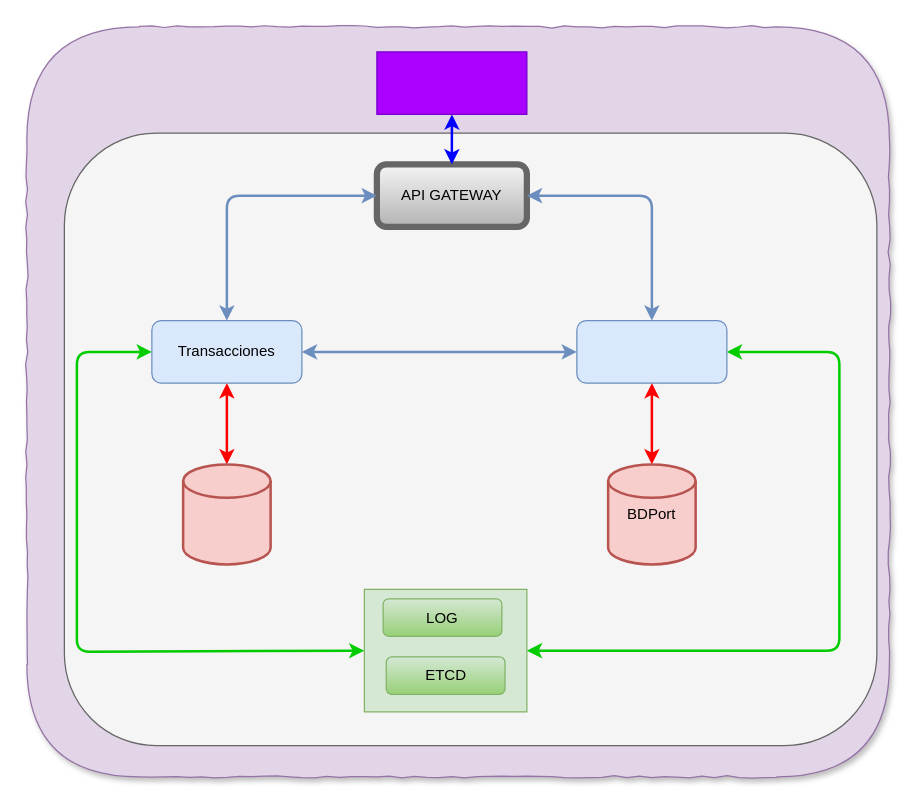
This 919x808 diagram has some shape labels left out. Each missing label, with the centre of its shape:
BDTrans: [226,513]
CLIENTE: [451,82]
Gestión Portátiles: [651,351]
